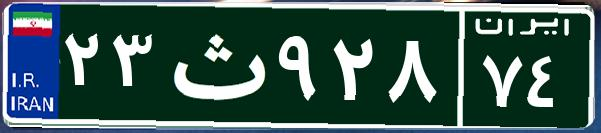2: (330, 28, 385, 110), (57, 26, 110, 107)
3: (110, 28, 158, 105)
4: (525, 38, 570, 115)
7: (475, 38, 525, 113)
8: (385, 28, 445, 110)
9: (273, 28, 330, 110)
ث: (158, 15, 273, 115)
